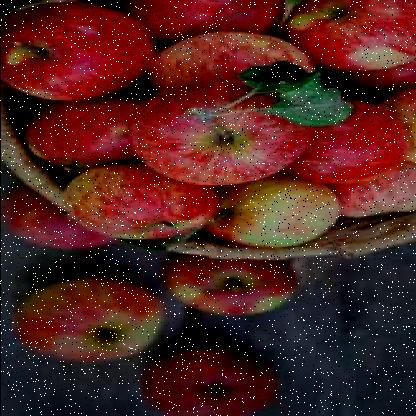apple: (150, 84, 314, 181), (10, 2, 150, 102), (71, 160, 218, 244), (26, 277, 168, 362), (160, 24, 310, 102), (18, 96, 160, 178), (165, 254, 302, 317), (289, 103, 398, 181), (294, 0, 416, 68), (226, 174, 340, 245), (165, 343, 274, 415)
